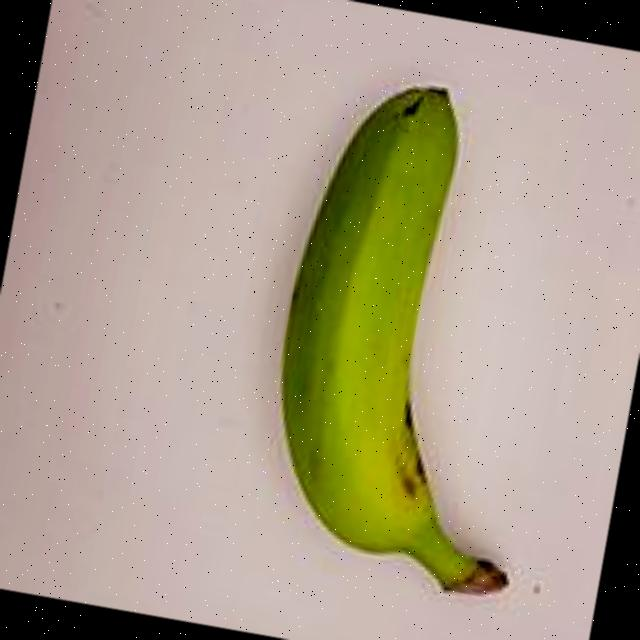Unripe: (172, 41, 626, 630)
